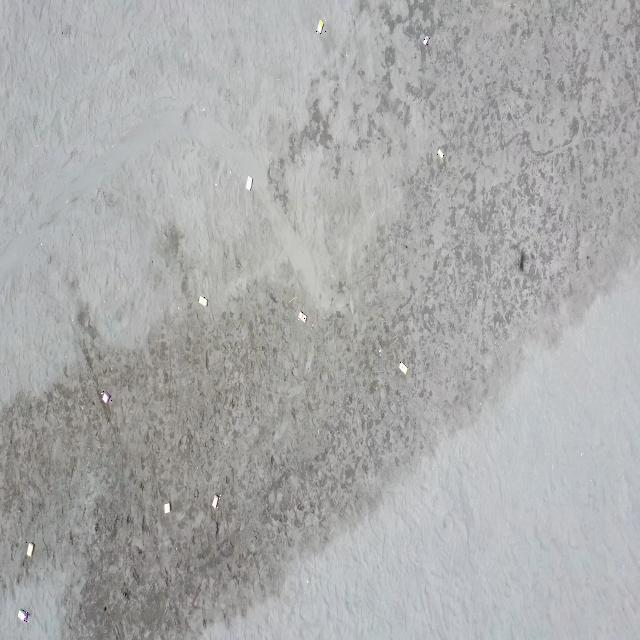retort-pouch: (316, 18, 326, 35), (18, 608, 30, 622), (101, 391, 112, 405), (397, 362, 409, 374), (198, 295, 209, 308), (211, 496, 221, 510), (245, 176, 254, 191), (297, 311, 307, 324), (26, 542, 35, 556), (163, 502, 172, 516), (424, 36, 432, 46), (437, 148, 445, 158)
